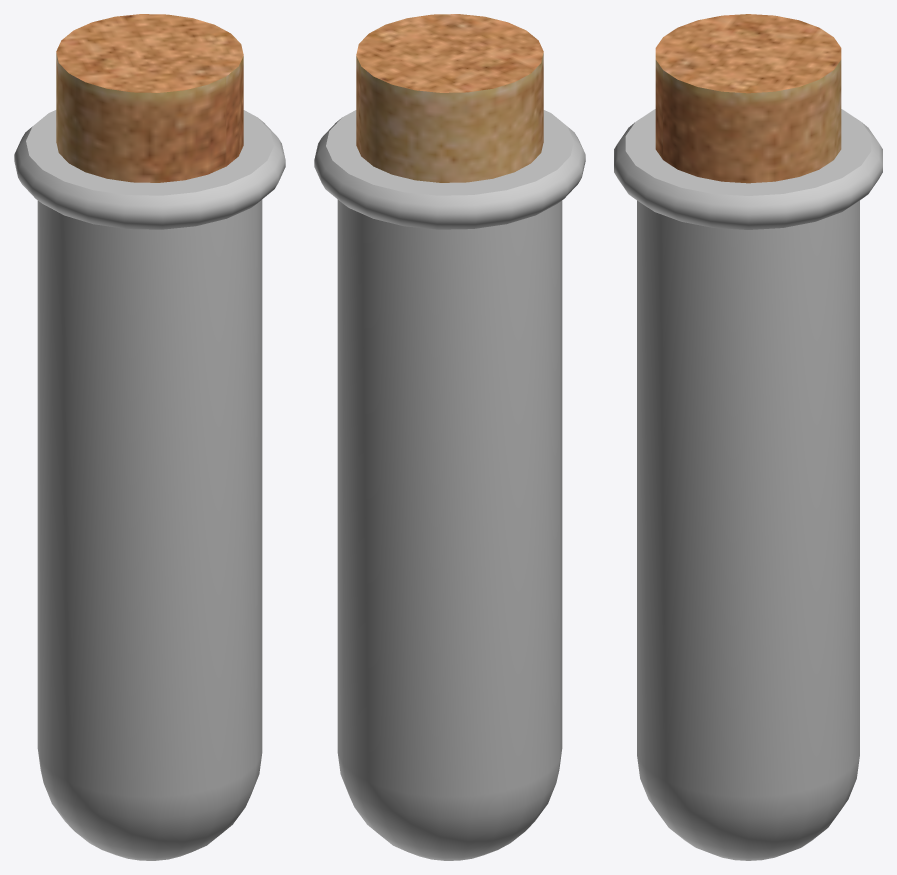
File: ExportPoison_01.FBX
3 views of the same model, side by side, from view 1: azimuth 30°, elevation 25°; view 2: azimuth 150°, elevation 25°; view 3: azimuth 270°, elevation 25° (orthographic).
Parts seen in each view (by area): view 1: poison_01, poison_3; view 2: poison_01, poison_3; view 3: poison_01, poison_3.
Part boxes in pixels (bbox=[...]): poison_01: bbox=[14, 110, 285, 860]; poison_3: bbox=[56, 14, 243, 182]; poison_01: bbox=[314, 110, 585, 860]; poison_3: bbox=[356, 14, 543, 182]; poison_01: bbox=[614, 109, 882, 860]; poison_3: bbox=[655, 14, 841, 183].
Bounding box in the file's own units: 3.03 × 3 × 9.82.
